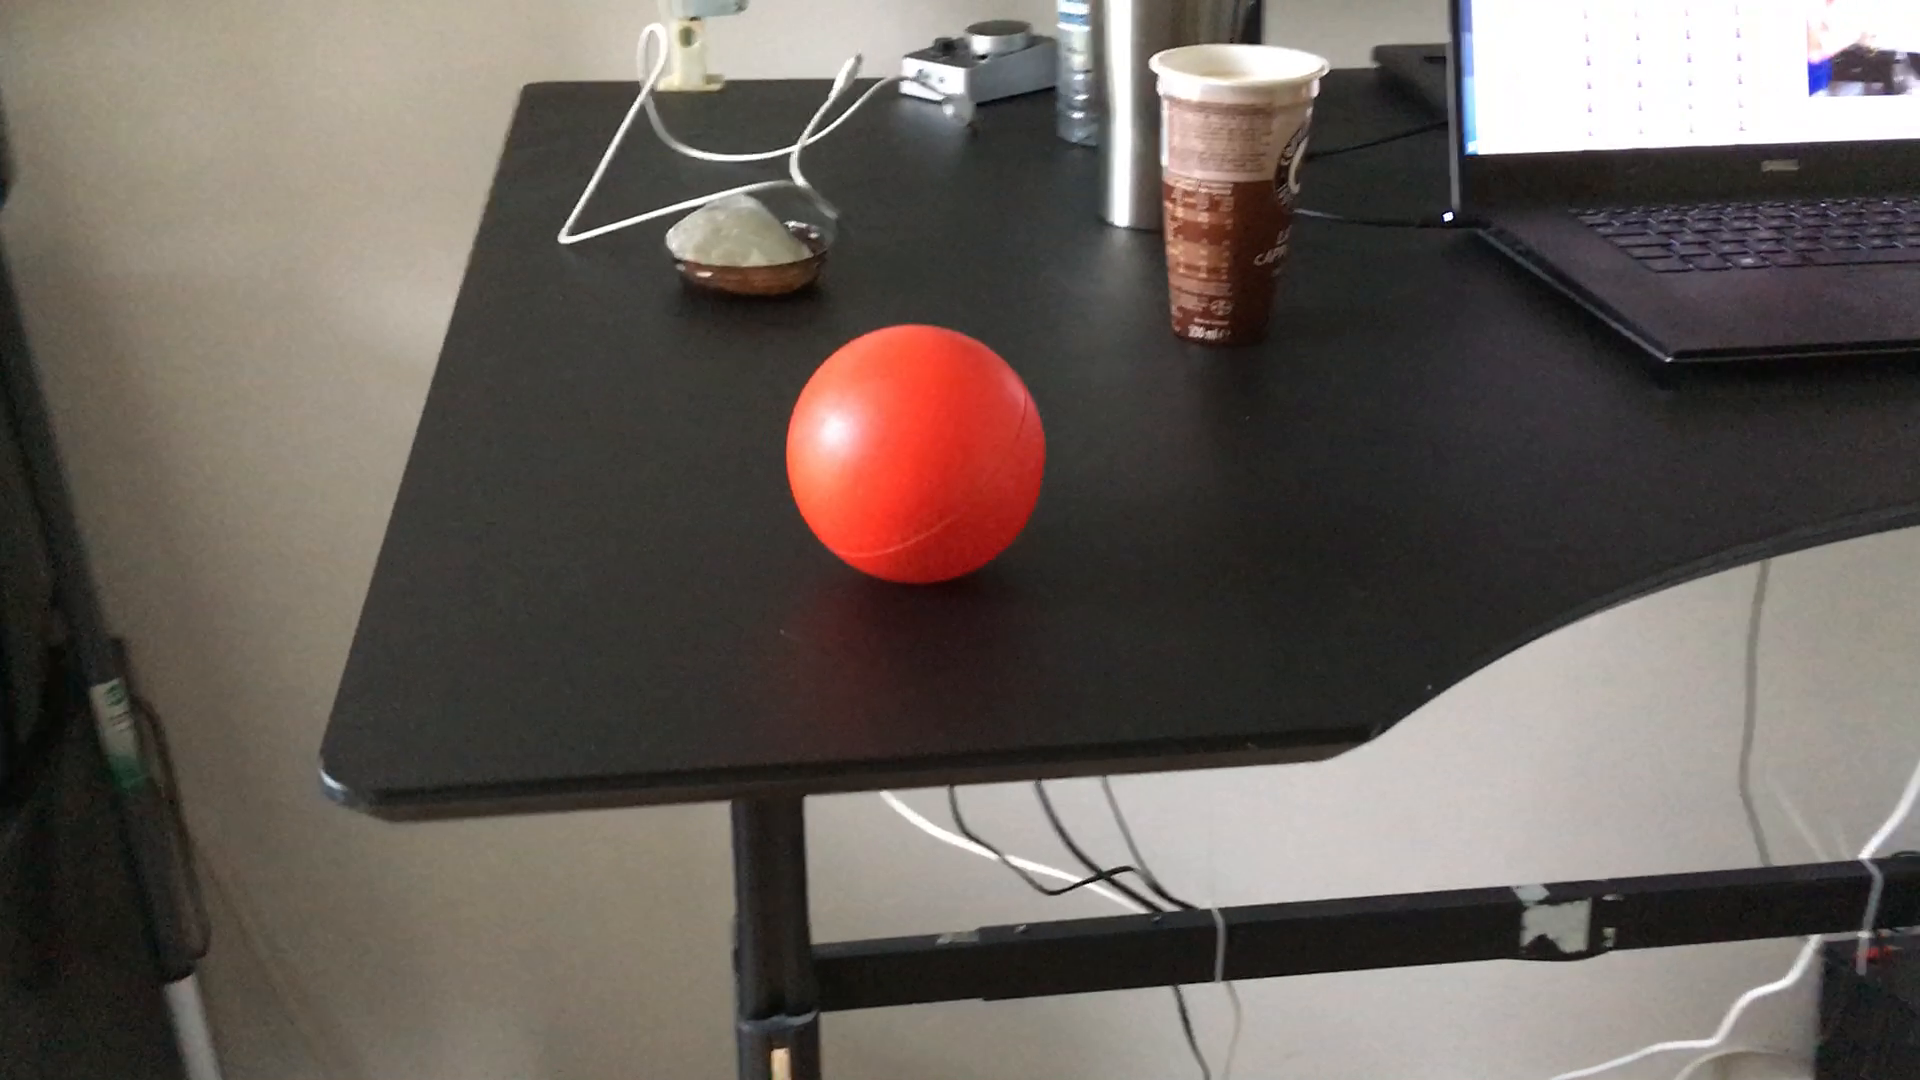Ball: (789, 322, 1048, 580)
